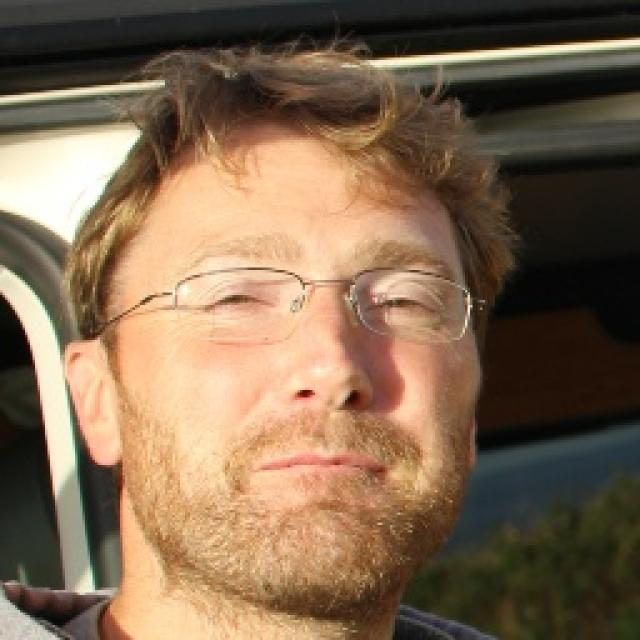earlobe: (86, 417, 124, 467)
eye: (360, 288, 444, 321), (197, 290, 277, 318)
wholeear: (62, 341, 124, 468)
